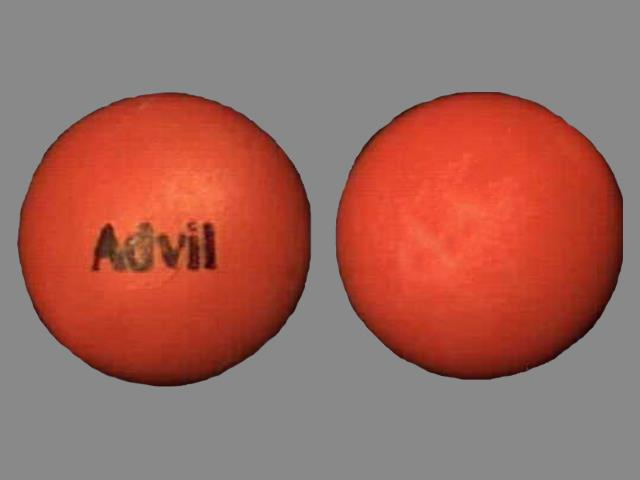Ibuprofen 200 MG Oral Tablet: (10, 87, 322, 397), (329, 87, 628, 386)
